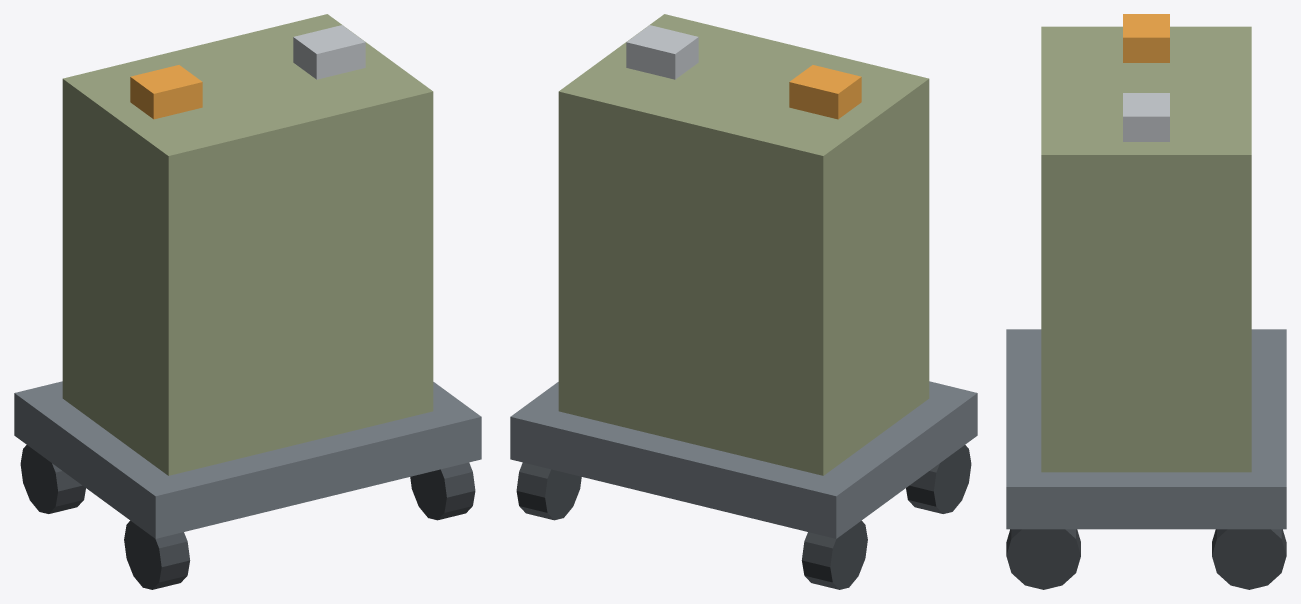
File: mech-hangar-and-battle-frames-battery-trolley-58020fdd__26972.glb
3 renders of one model, left to right at view 1: azimuth 30°, elevation 25°; view 2: azimuth 150°, elevation 25°; view 3: azimuth 270°, elevation 25°, orthographic.
Visible parts, largest first — view 1: battery-trolley; view 2: battery-trolley; view 3: battery-trolley.
Part boxes in pixels (<box>): battery-trolley: <box>14,14,481,589</box>; battery-trolley: <box>510,14,977,589</box>; battery-trolley: <box>1006,14,1286,589</box>.
Size of the model in its own units: 0.8 by 1.06 by 0.6001.
